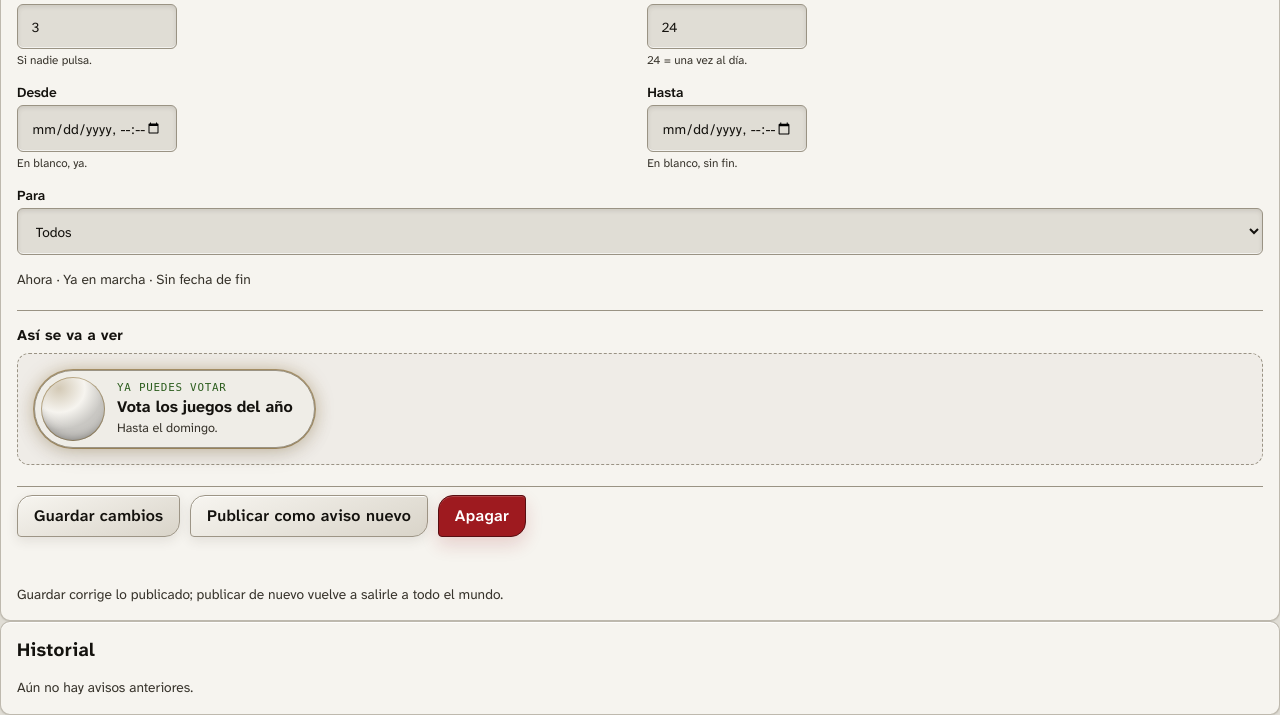
panel · aviso a los usuarios › apagar deja el texto guardado y deja de enseñarlo
(page scrolled)
Click the button "Apagar" at (482, 516), box [438, 495, 526, 537]
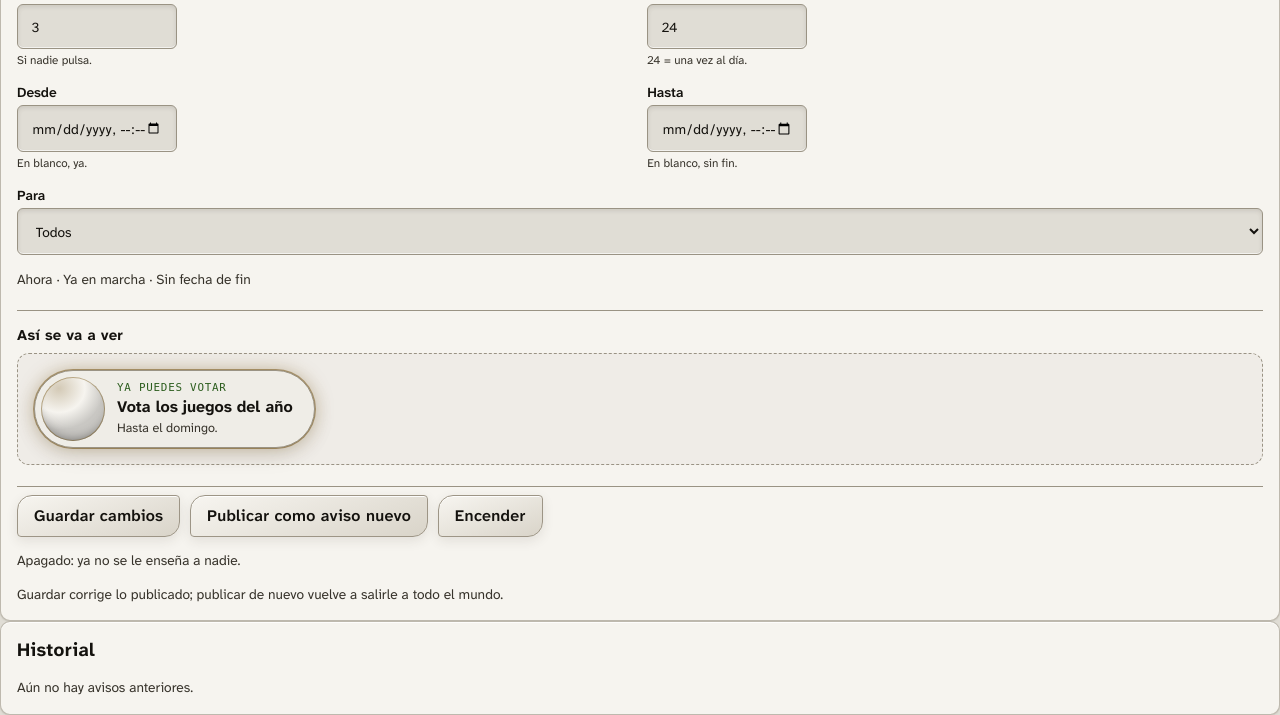
Expected: the text "Vota los juegos del año" is shown, [117, 397, 293, 418]
Result: the text "Apagado: ya no se le enseña a nadie." is shown at [17, 551, 240, 569]
